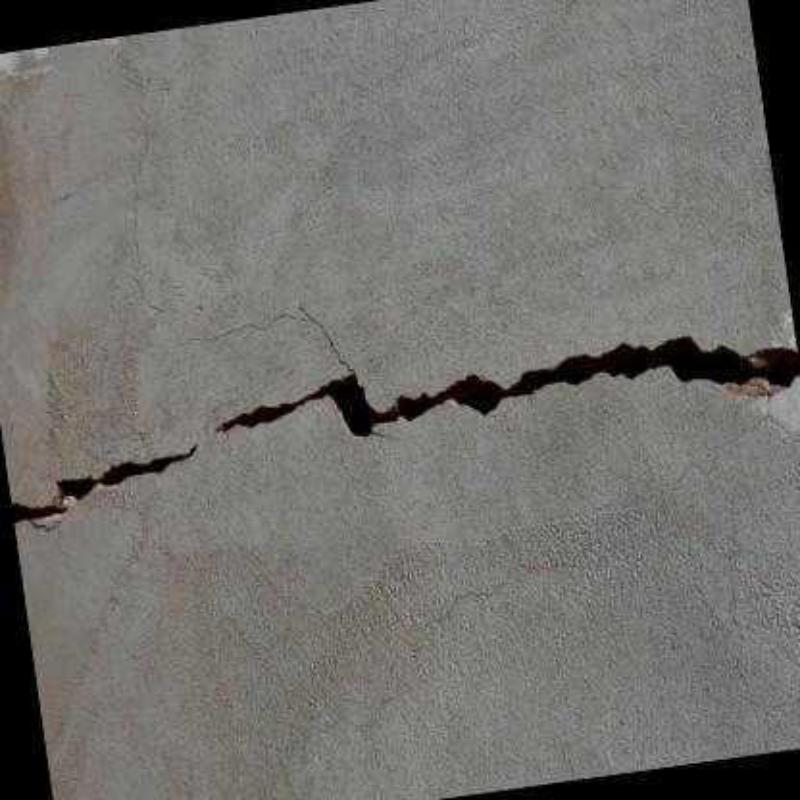pothole: (215, 335, 798, 438), (11, 441, 196, 523), (198, 310, 354, 373)
